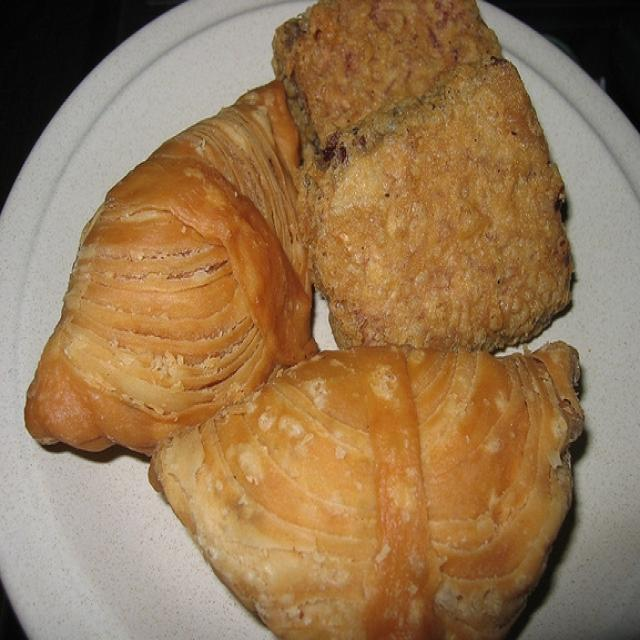炸货点心: (35, 18, 616, 621)
